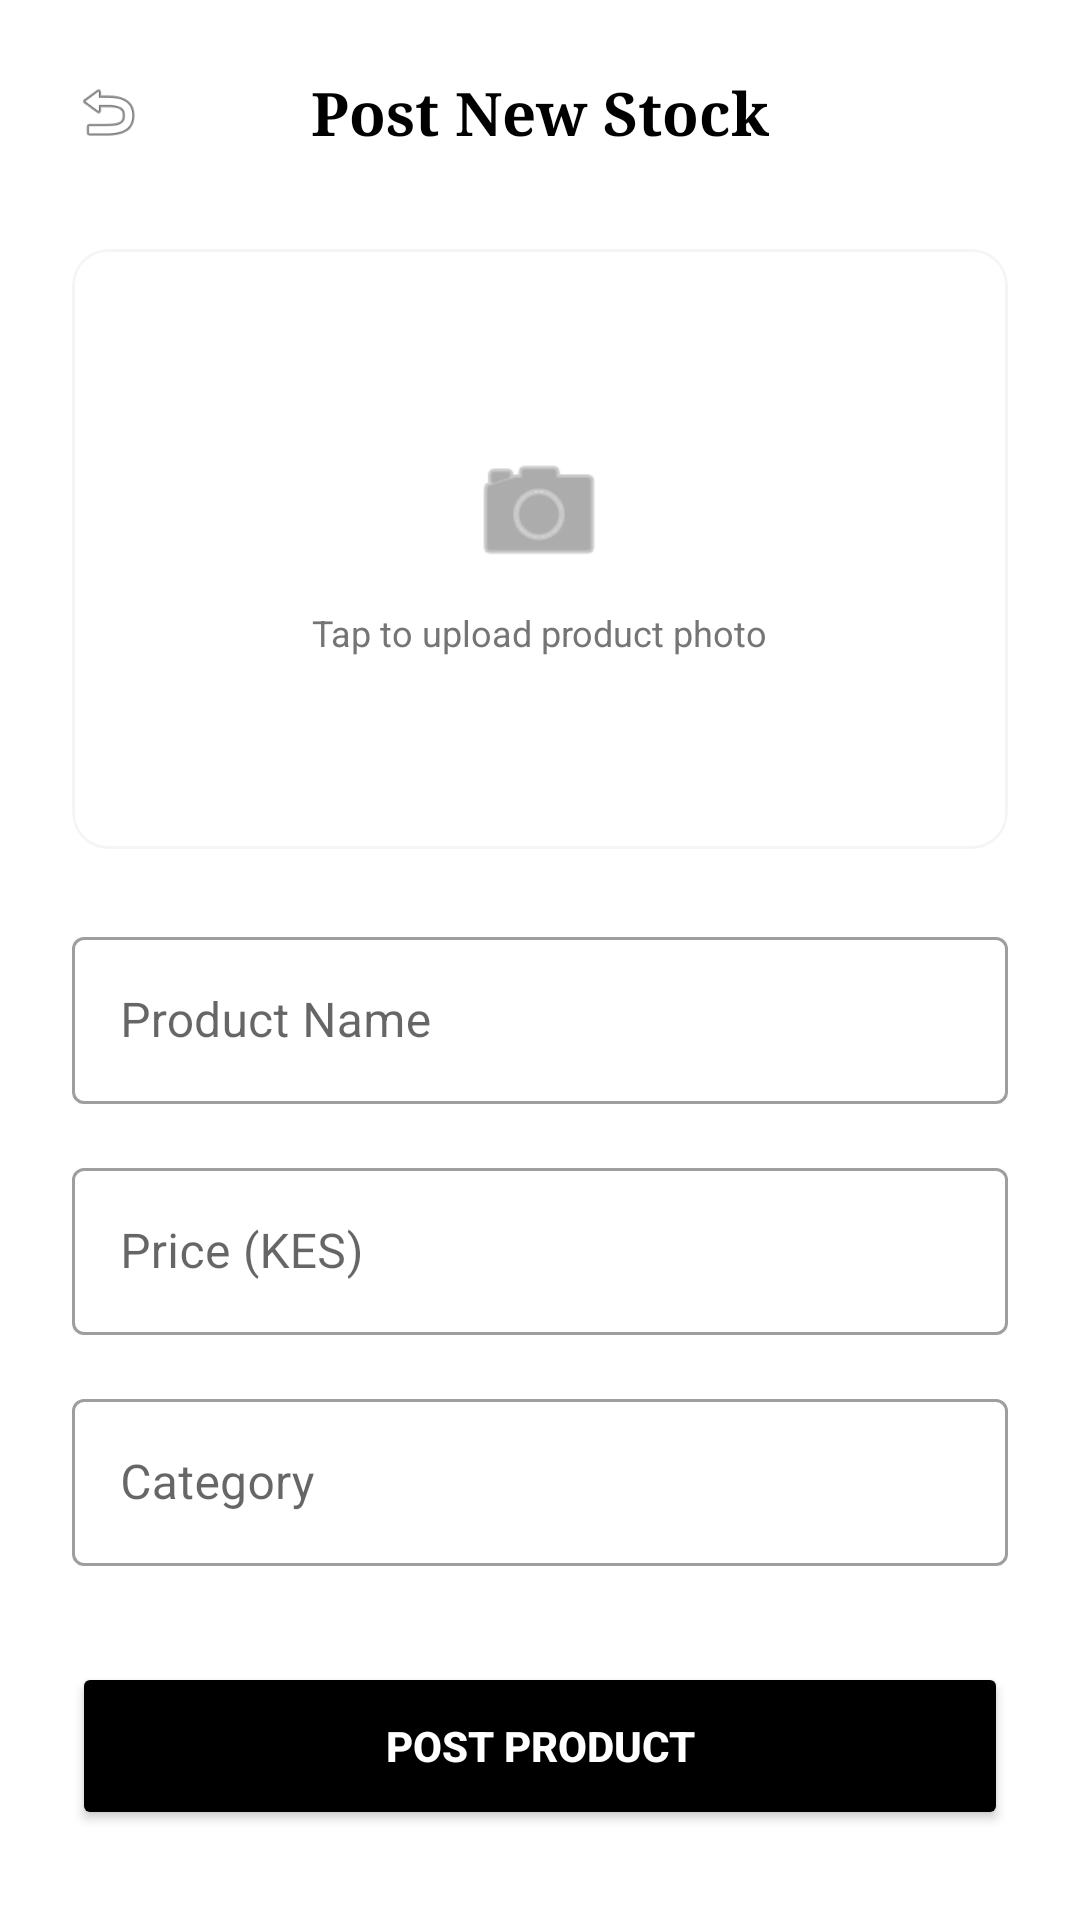

Named icons in this screenshot (1080×1920) and their centers, point (x, y):
Back: point (109, 112)
camera: point (539, 510)
